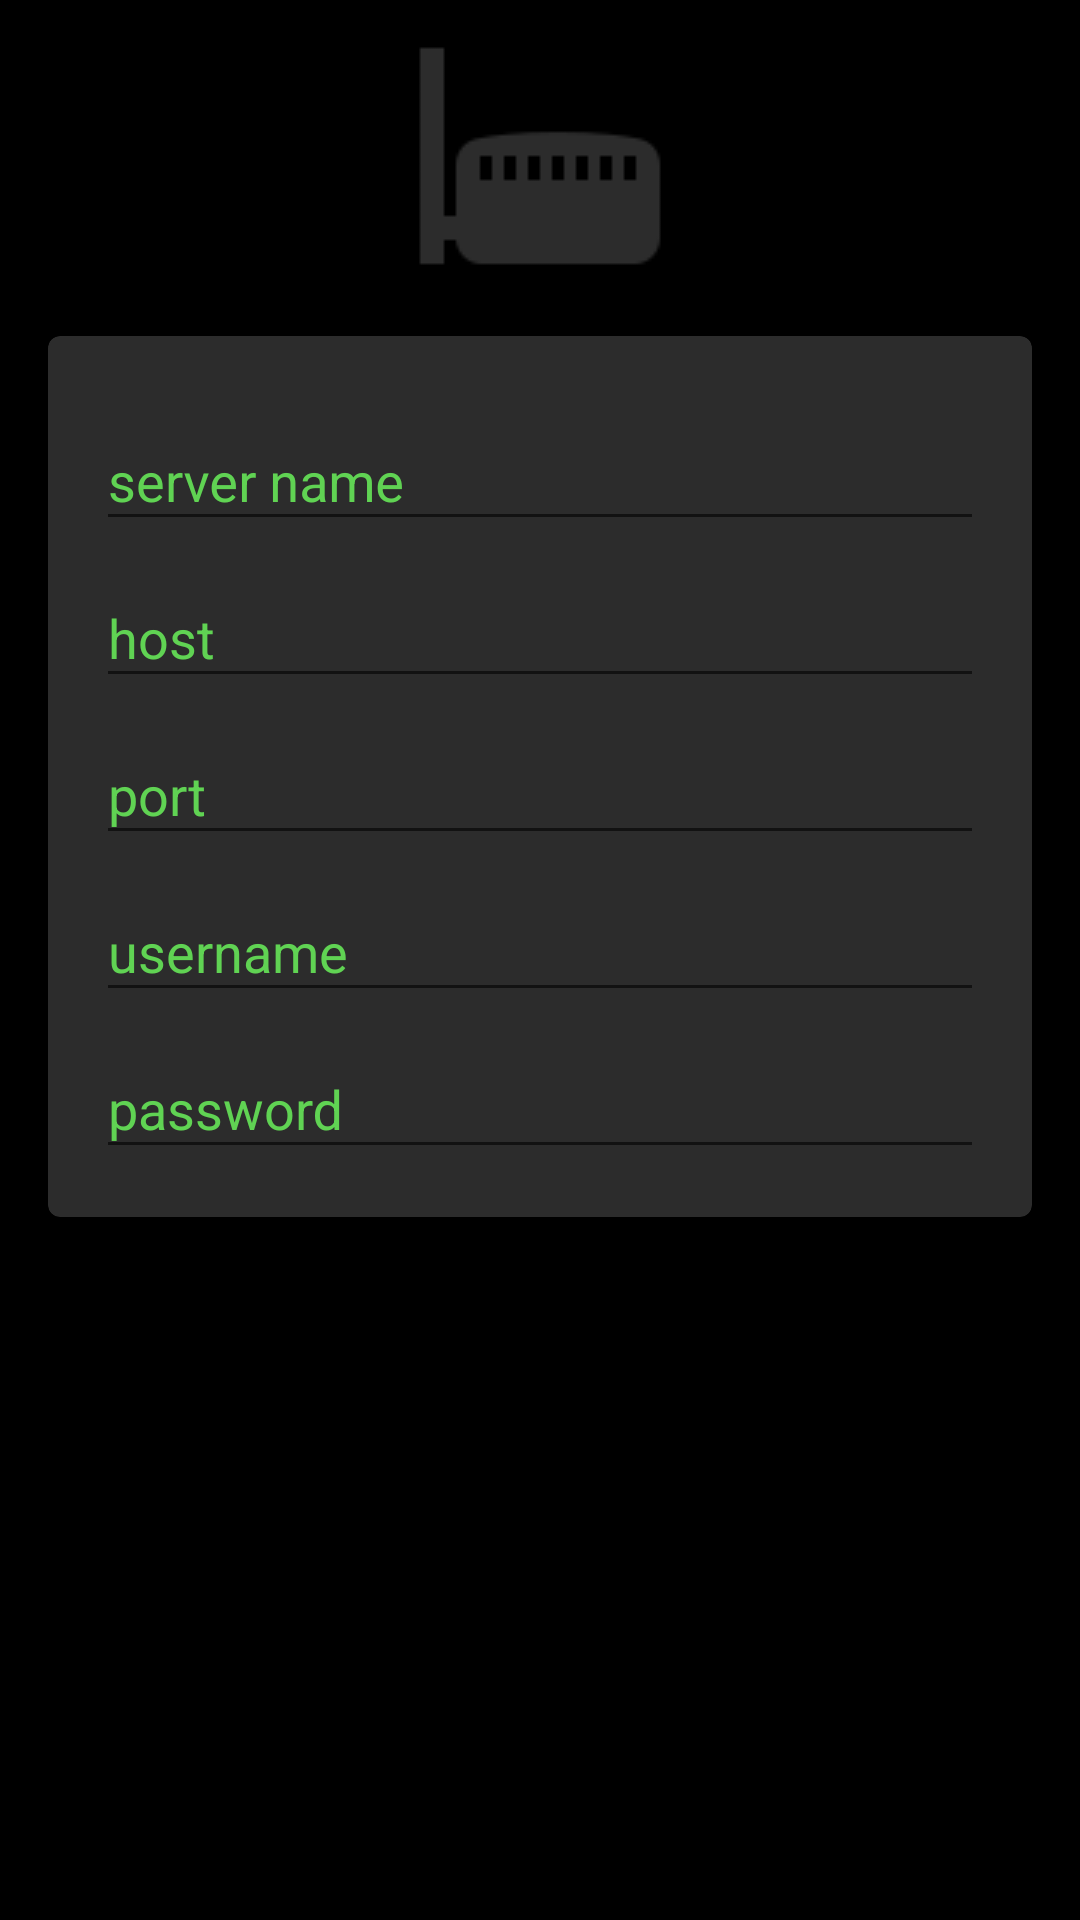

Named icons in this screenshot (1080px×1920px) and their bounding boxes, bbox=(x1, y1, x2, y2):
router: bbox=(420, 48, 660, 264)
